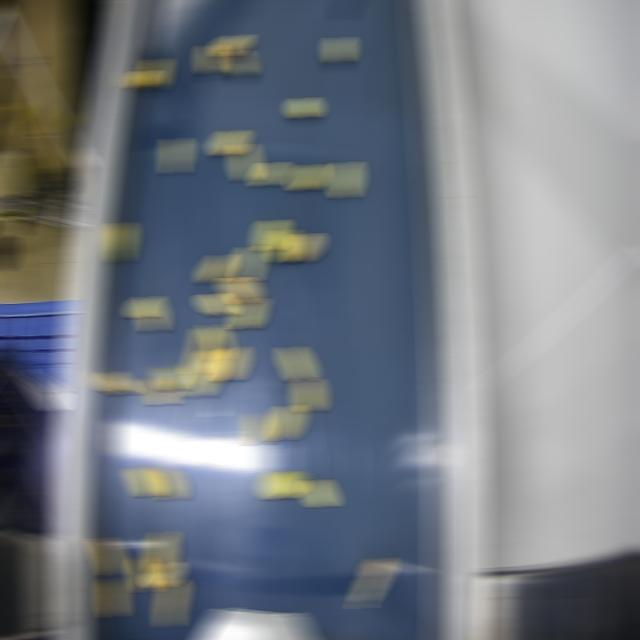Baby Potato: (356, 557, 389, 608), (188, 350, 221, 397), (187, 328, 214, 373), (131, 296, 162, 331), (264, 471, 301, 499), (94, 537, 121, 575), (273, 405, 300, 440), (283, 346, 310, 381), (217, 346, 244, 381), (163, 579, 182, 627), (155, 464, 180, 500), (98, 370, 133, 395), (131, 466, 160, 496), (150, 530, 171, 571), (110, 222, 131, 262), (235, 140, 256, 180), (234, 298, 261, 329), (290, 232, 317, 263), (224, 277, 255, 303), (272, 229, 295, 263), (335, 161, 356, 198), (134, 555, 155, 592), (259, 219, 284, 250), (103, 577, 122, 617), (305, 479, 332, 507), (150, 561, 177, 588), (204, 254, 229, 283), (299, 378, 320, 412), (201, 293, 232, 316), (216, 129, 243, 155), (295, 163, 320, 191), (147, 377, 172, 405), (240, 245, 259, 281), (157, 365, 184, 390), (207, 324, 226, 359), (216, 34, 245, 56), (167, 137, 184, 174), (257, 161, 282, 186), (249, 413, 268, 444), (202, 44, 221, 73), (147, 58, 164, 90), (292, 96, 315, 118), (231, 51, 250, 76), (331, 36, 348, 63), (132, 70, 153, 87)
